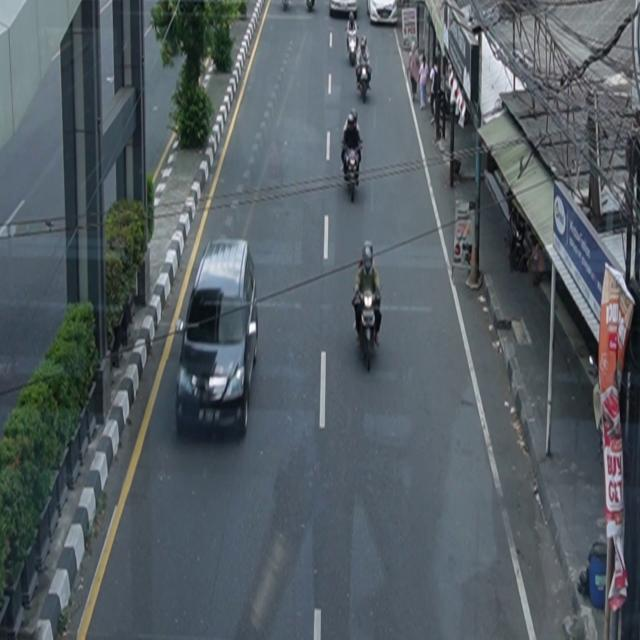car: (176, 237, 259, 439), (367, 1, 398, 26)
